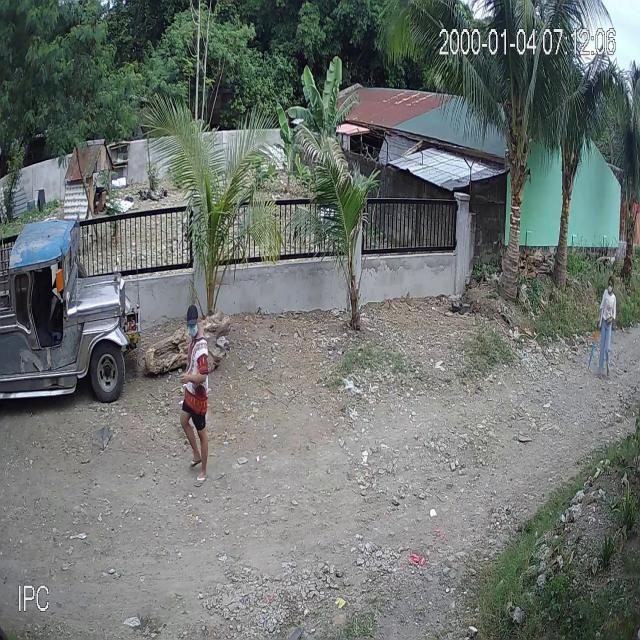walking: (178, 302, 215, 490), (588, 272, 618, 382)
